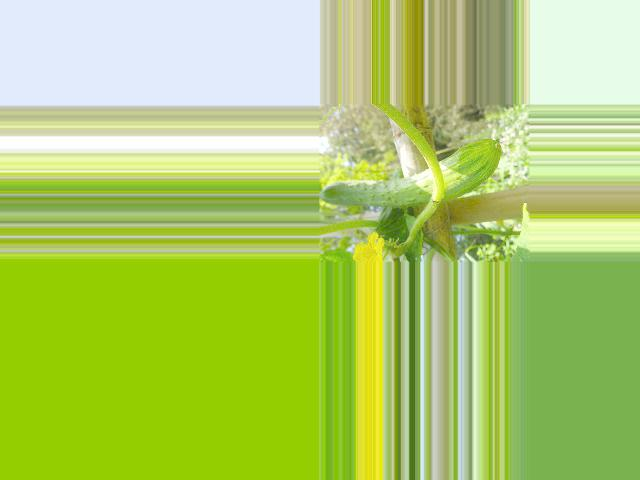cucumber: (319, 140, 501, 207)
